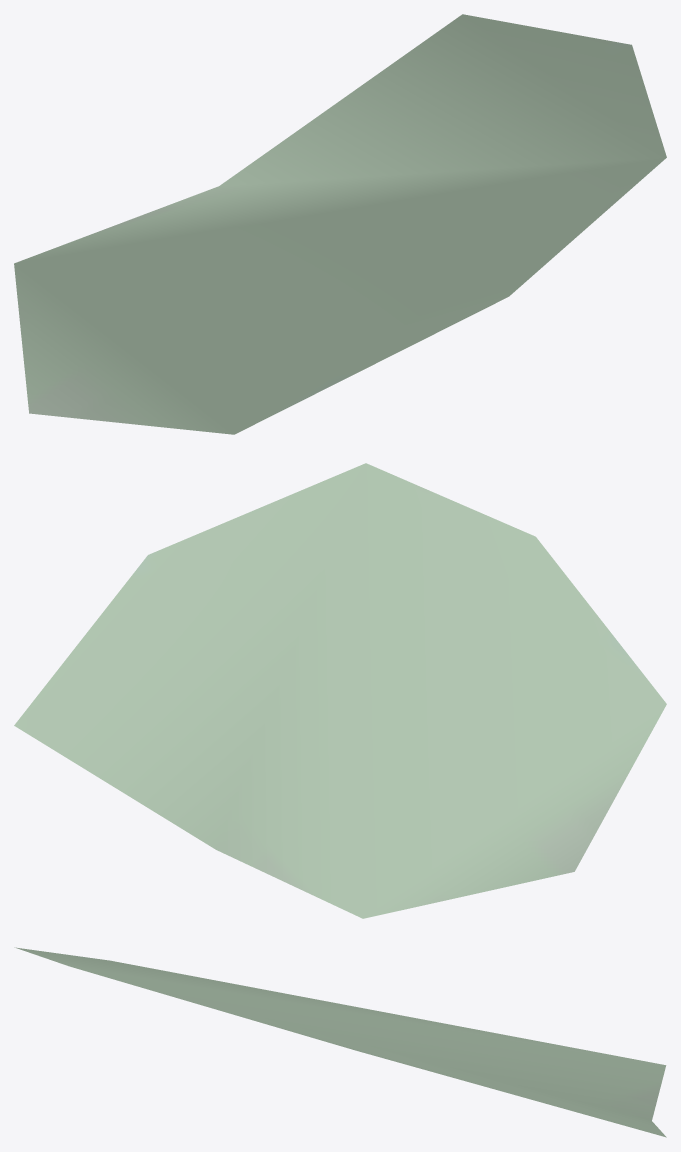
The model's file is TROLLHOLE02_HOLECAP125.fbx.
3 renders of one model, top to bottom at view 1: azimuth 30°, elevation 25°; view 2: azimuth 150°, elevation 25°; view 3: azimuth 270°, elevation 25°, orthographic. The views are drawn at different scales.
Parts seen in each view (by area): view 1: TROLLHOLE02_HOLECAP125; view 2: TROLLHOLE02_HOLECAP125; view 3: TROLLHOLE02_HOLECAP125.
Boxes of the visible parts, box(x1,y1,x2,y2) form: TROLLHOLE02_HOLECAP125: box(14, 14, 666, 434); TROLLHOLE02_HOLECAP125: box(14, 463, 666, 918); TROLLHOLE02_HOLECAP125: box(14, 947, 666, 1137).
Bounding box in the file's own units: 15650 × 7263 × 16855.
1 material, 1 textured.
